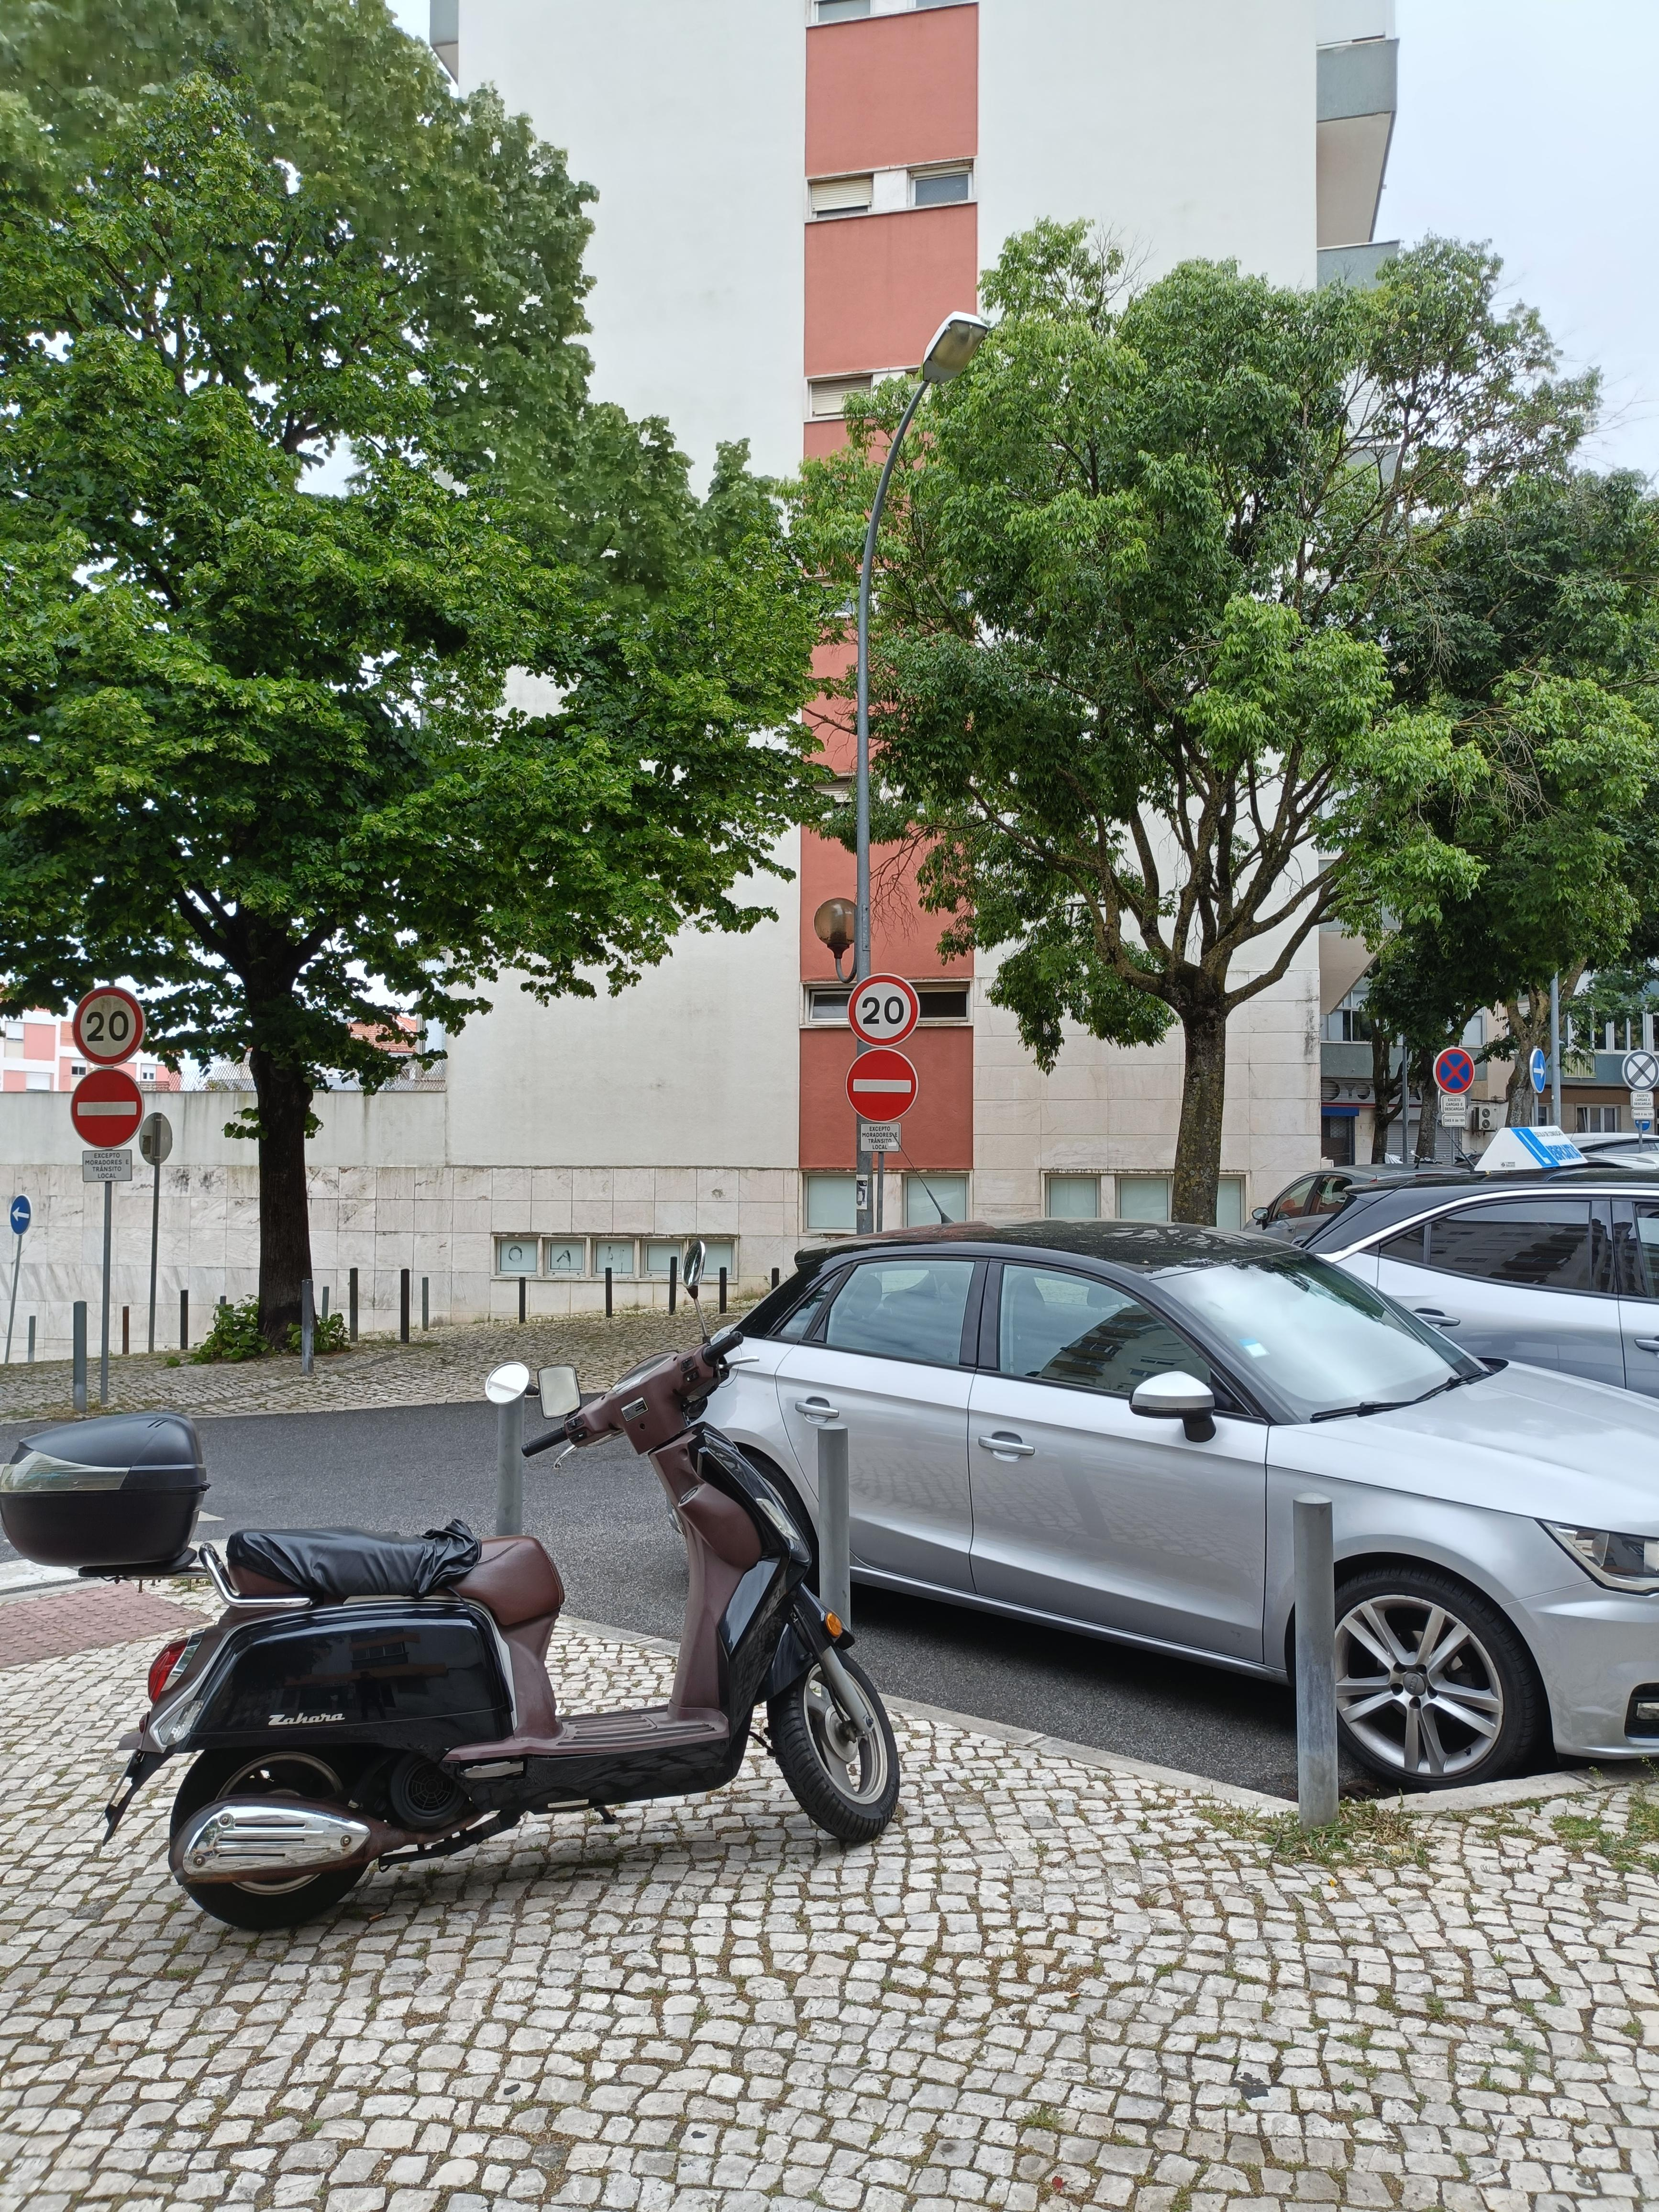Sentido proibido: (842, 1049, 924, 1120)
proibicao de exceder a velocidade maxima de 20 km-h: (845, 968, 927, 1047)
